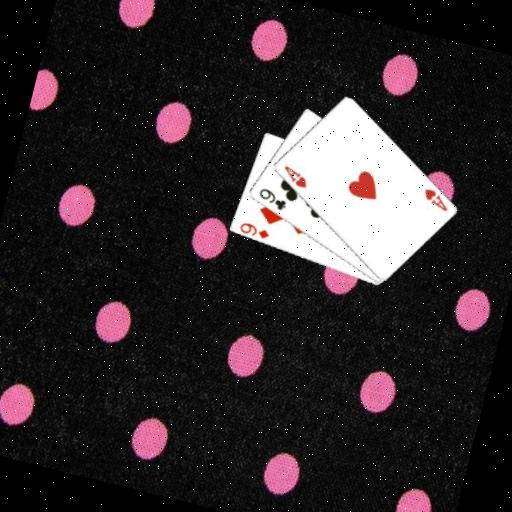9C: (253, 184, 291, 213)
9D: (236, 218, 273, 241)
AH: (417, 184, 453, 214), (277, 161, 312, 191)
